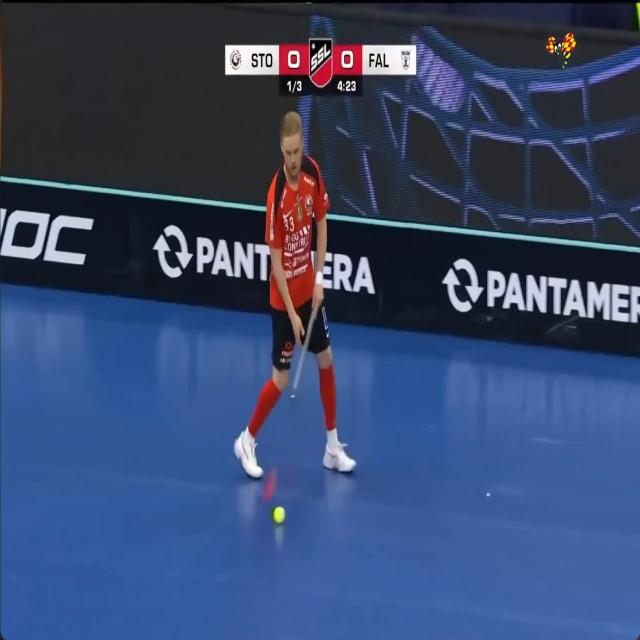Balls: (272, 507, 285, 523)
player: (234, 111, 356, 477)
